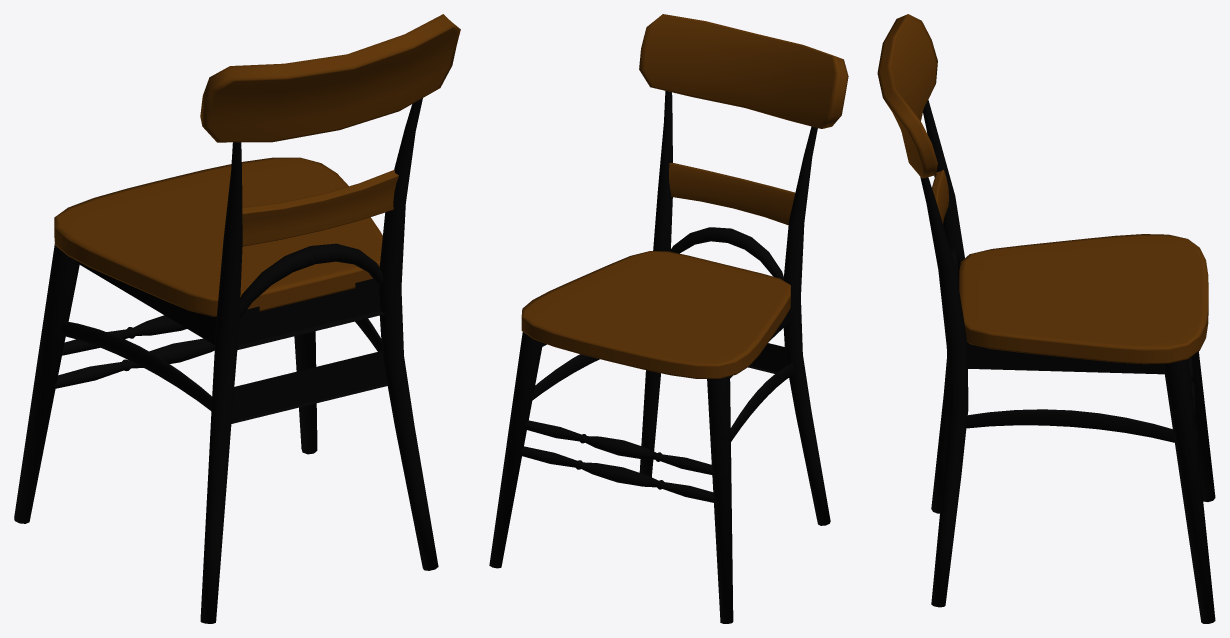
The model's file is CaffeChair.fbx.
The picture shows the model from 3 angles, left to right: view 1: azimuth 30°, elevation 25°; view 2: azimuth 150°, elevation 25°; view 3: azimuth 270°, elevation 25°; orthographic projection. The views are drawn at different scales.
Visible parts, largest first — view 1: Seat, ChairBack1, RearLeg, FrontLeg, ChairBack2, RearFrame3, RearFrame2, SideFrame, RearFrame1, FrontFrame2, SideSeatFrame, FrontFrame1; view 2: Seat, ChairBack1, RearLeg, FrontLeg, ChairBack2, FrontFrame2, FrontFrame1, SideFrame, RearFrame1, RearFrame3; view 3: Seat, RearLeg, FrontLeg, ChairBack1, SideFrame, SideSeatFrame, ChairBack2.
Boxes of the visible parts, bbox=[...] form: Seat: bbox=[54, 157, 382, 316]; ChairBack1: bbox=[200, 14, 460, 142]; RearLeg: bbox=[200, 98, 438, 623]; FrontLeg: bbox=[14, 243, 317, 523]; ChairBack2: bbox=[242, 170, 398, 246]; RearFrame3: bbox=[231, 350, 388, 423]; RearFrame2: bbox=[237, 279, 386, 349]; SideFrame: bbox=[61, 318, 381, 410]; RearFrame1: bbox=[239, 243, 382, 318]; FrontFrame2: bbox=[53, 338, 214, 388]; SideSeatFrame: bbox=[77, 261, 216, 344]; FrontFrame1: bbox=[62, 315, 186, 355]; Seat: bbox=[521, 251, 790, 378]; ChairBack1: bbox=[639, 14, 848, 128]; RearLeg: bbox=[639, 91, 830, 525]; FrontLeg: bbox=[489, 332, 733, 623]; ChairBack2: bbox=[669, 163, 795, 225]; FrontFrame2: bbox=[520, 446, 713, 502]; FrontFrame1: bbox=[524, 420, 712, 474]; SideFrame: bbox=[532, 354, 793, 441]; RearFrame1: bbox=[669, 227, 783, 280]; RearFrame3: bbox=[748, 343, 786, 373]; Seat: bbox=[959, 234, 1208, 364]; RearLeg: bbox=[920, 100, 968, 607]; FrontLeg: bbox=[1163, 351, 1215, 623]; ChairBack1: bbox=[877, 14, 937, 178]; SideFrame: bbox=[966, 409, 1174, 442]; SideSeatFrame: bbox=[965, 341, 1164, 374]; ChairBack2: bbox=[932, 170, 948, 224].
Bounding box in the file's own units: 58.86 × 65.06 × 106.
